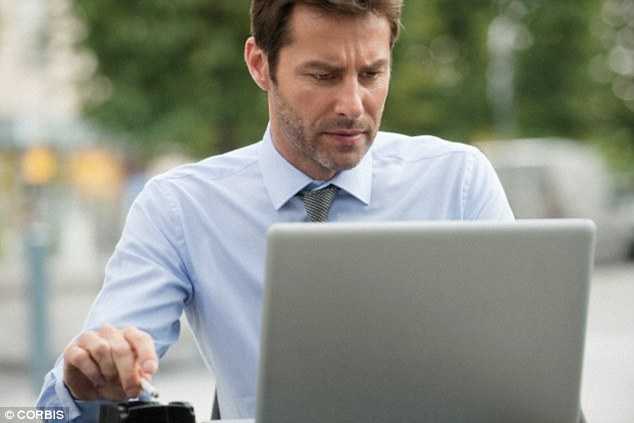cigarette: (132, 372, 163, 401)
not_cigarette: (251, 213, 599, 423)
